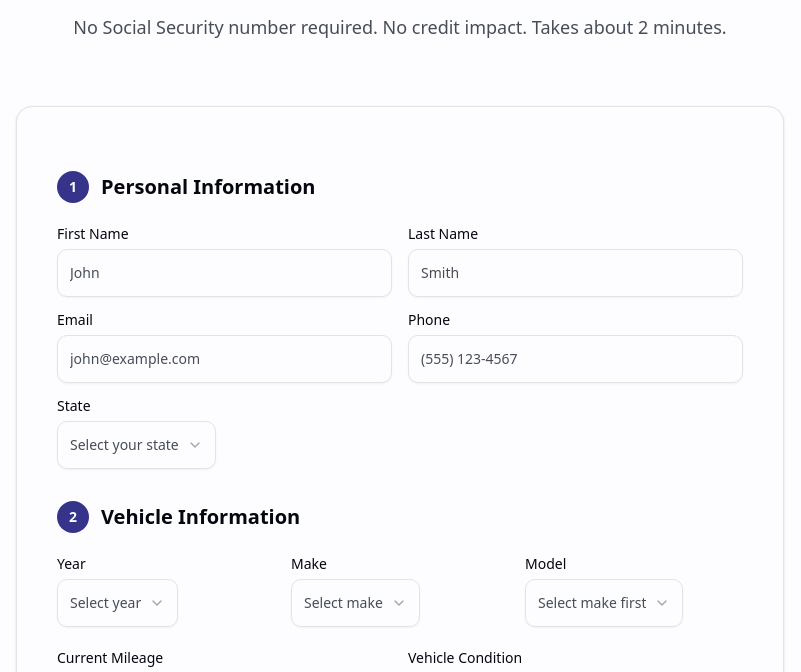
Test: Refinance Page — Frontend Behavioral Tests › Form validation › shows email validation error for invalid email
(page scrolled)
In the field labelled "Email": (224, 359) [57,335,392,383], type "not-an-email"
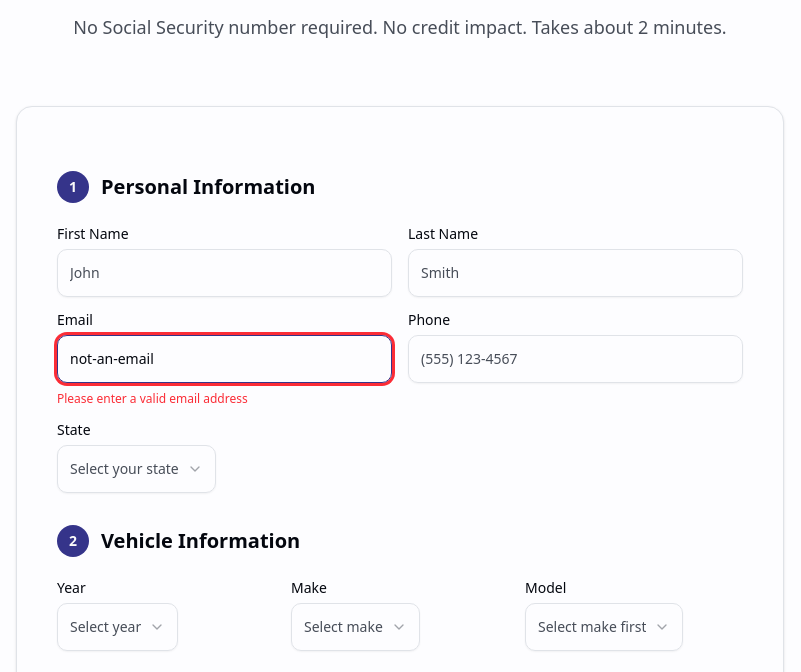
Check: the text "Please enter a valid email address" is shown, box [57,390,248,407]
